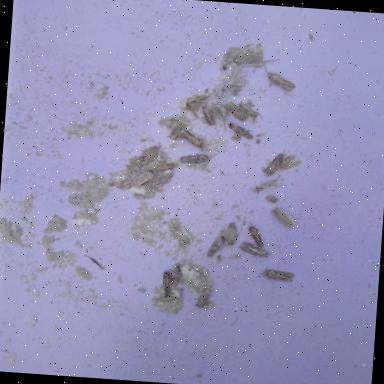pbw: (252, 177, 288, 195), (270, 206, 298, 226), (238, 240, 270, 257), (262, 267, 296, 282), (182, 129, 207, 149), (267, 72, 294, 90), (227, 122, 255, 139), (238, 102, 264, 120), (206, 234, 224, 258), (226, 101, 248, 120), (248, 224, 265, 247), (180, 150, 210, 163), (132, 170, 154, 186), (154, 167, 173, 185), (200, 106, 217, 126), (224, 222, 238, 246), (160, 269, 172, 297), (196, 286, 210, 307)
